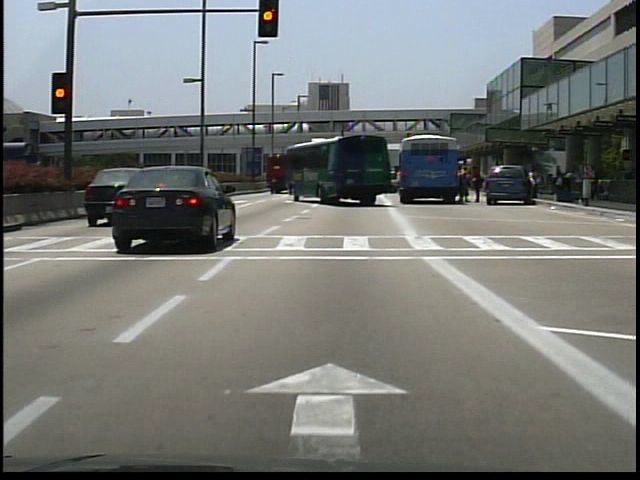person: (459, 163, 474, 204), (469, 163, 483, 205), (527, 168, 540, 205)
